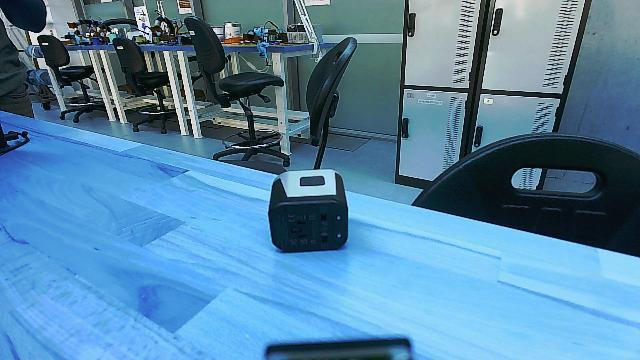adapter: (260, 162, 354, 266)
